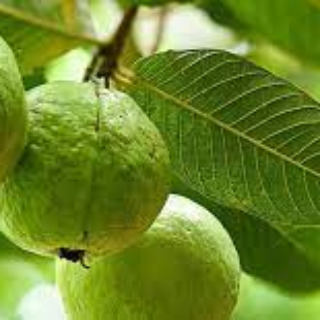oi: (1, 81, 177, 264)
